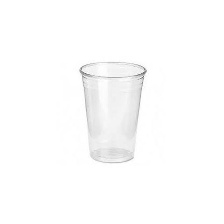glass: (72, 55, 152, 167)
